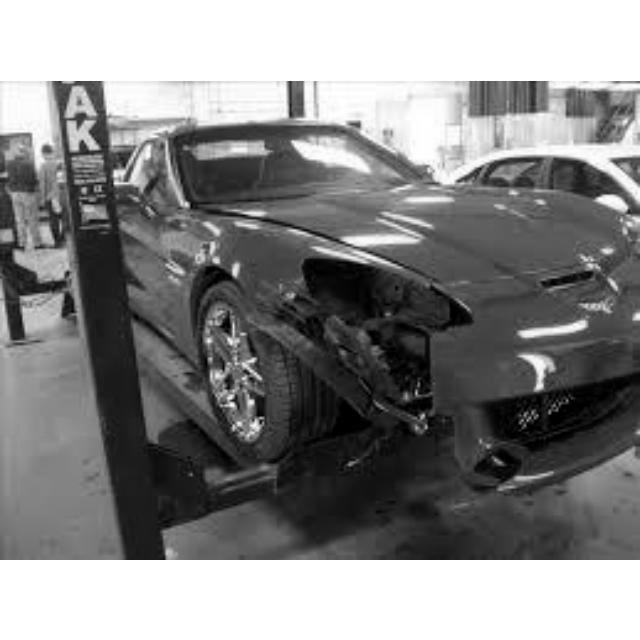fender-dent: (233, 234, 373, 322)
